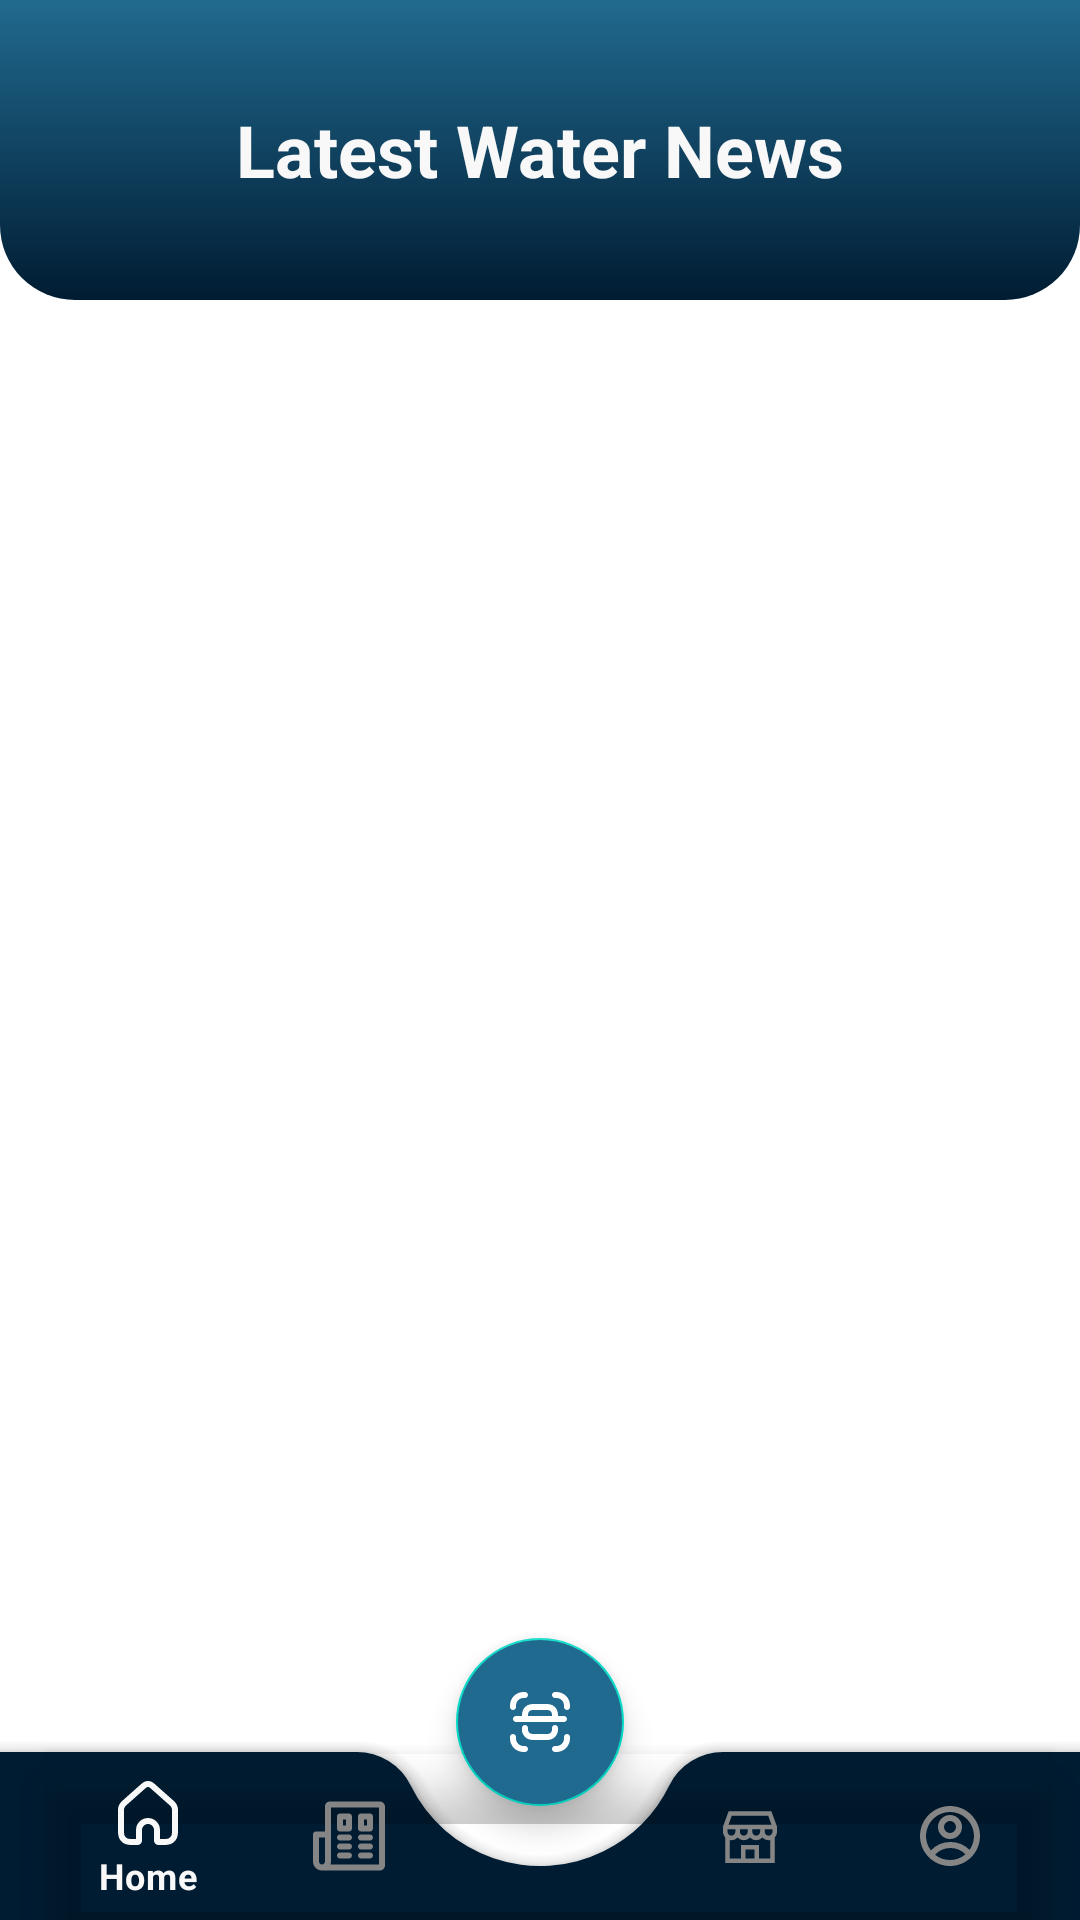

Icon click points for this 1080*1920 phone screenshot, format (x=x, y=y):
scan: (x=540, y=1746)
